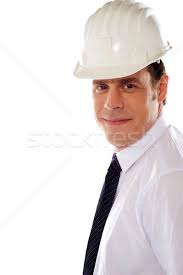Person_wearing_helmet: (67, 0, 171, 101)
